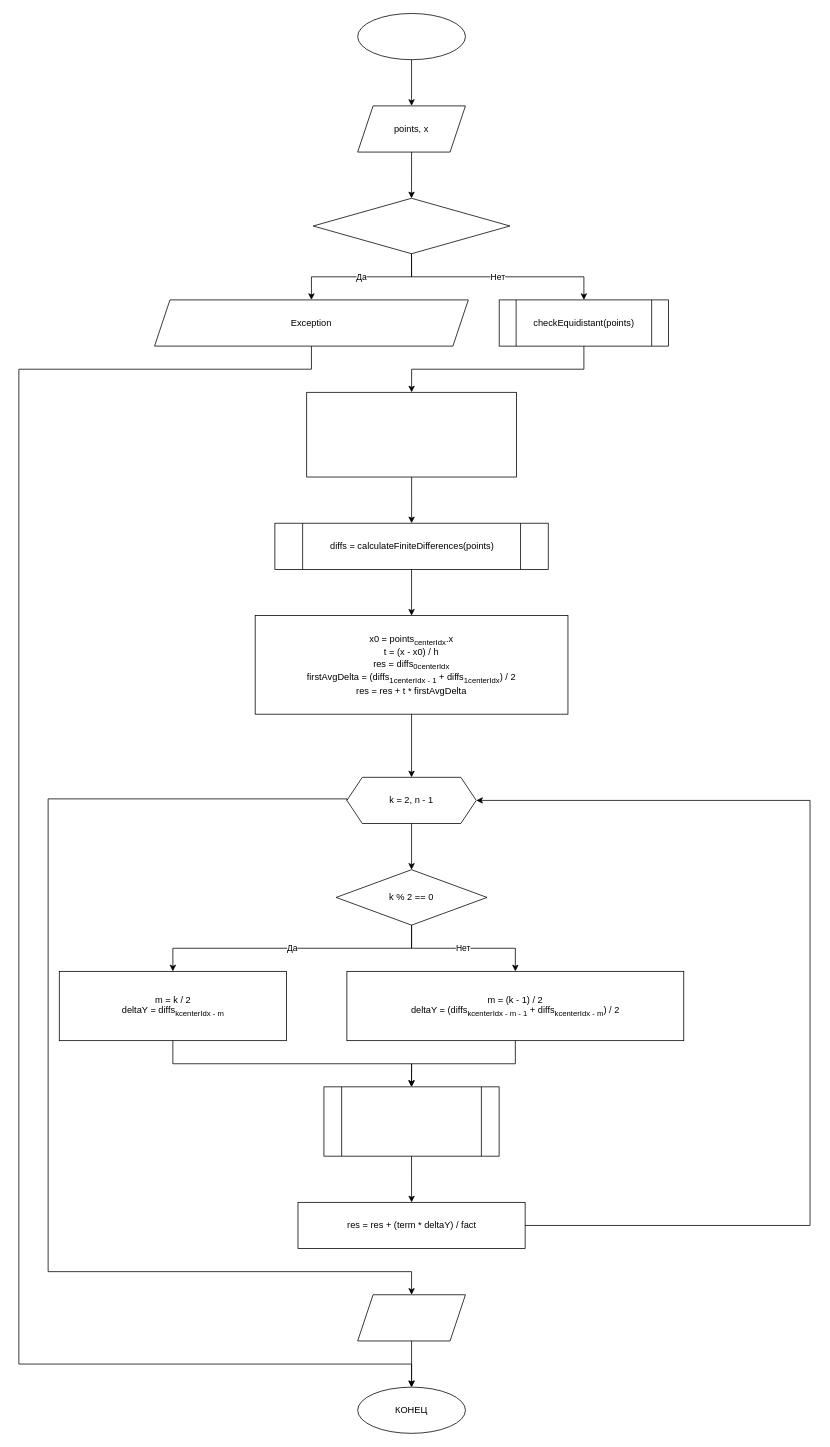
Image size: 830x1447. Some labels were removed from this diagram. Here are the shapes that lost their labels. From the top down, the centre of each, then its label:
At (411,36): "НАЧАЛО".
At (411,226): "n < 3 OR n % 2 == 0".
At (411,434): "n = points.size h = points 1 .x - points 0 .x centerIdx = n / 2".
At (411,1121): "term = stirlingTerm(t, k) fact = factorial(k)".
At (411,1317): "res".
